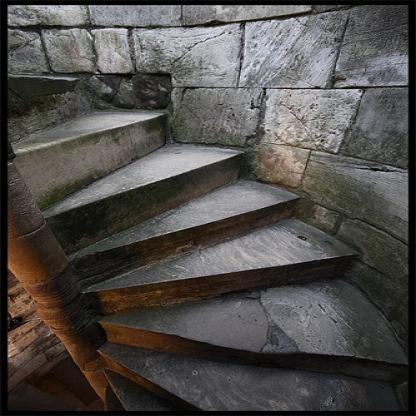stairs: (100, 244, 362, 411)
